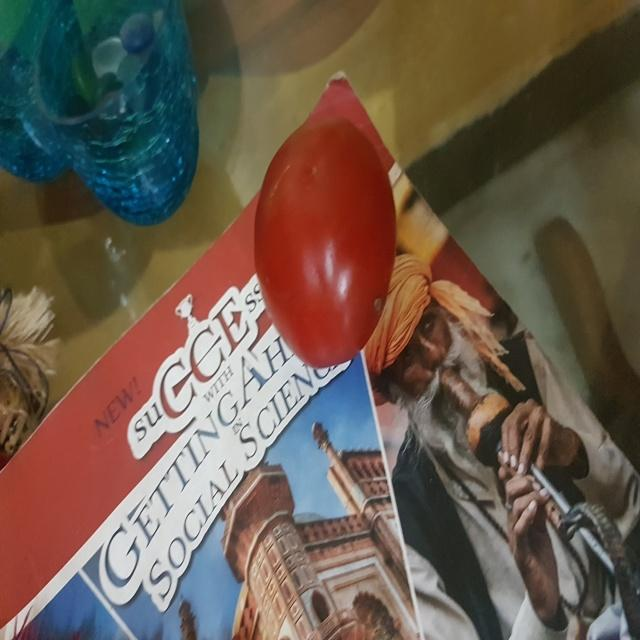tomato: (249, 122, 412, 370)
